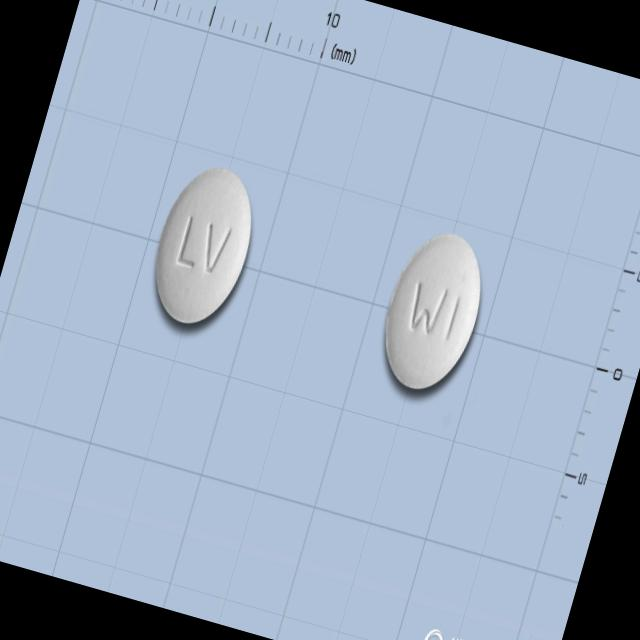Whanin Levofloxacin Tab: (367, 222, 499, 402), (140, 154, 270, 336)
